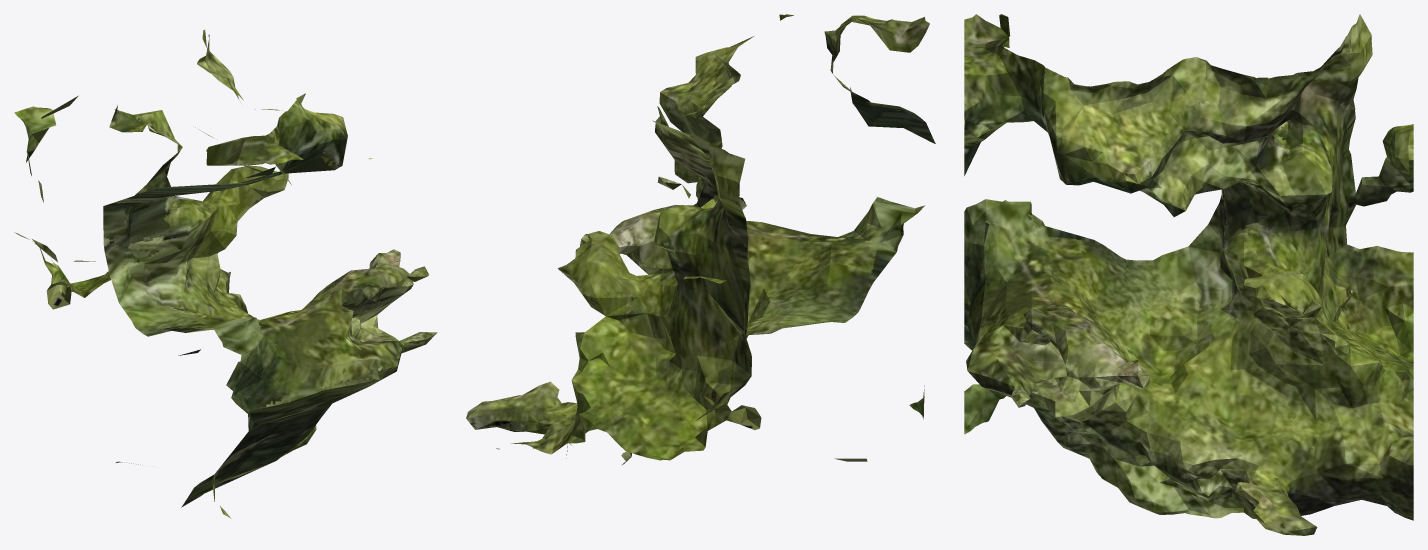
The picture shows the model from 3 angles, left to right: view 1: azimuth 30°, elevation 25°; view 2: azimuth 150°, elevation 25°; view 3: azimuth 270°, elevation 25°; orthographic projection. The views are drawn at different scales.
Bounding box in the file's own units: 2.4 × 2.95 × 2.95.
Materials: 5 (5 with a texture image).
